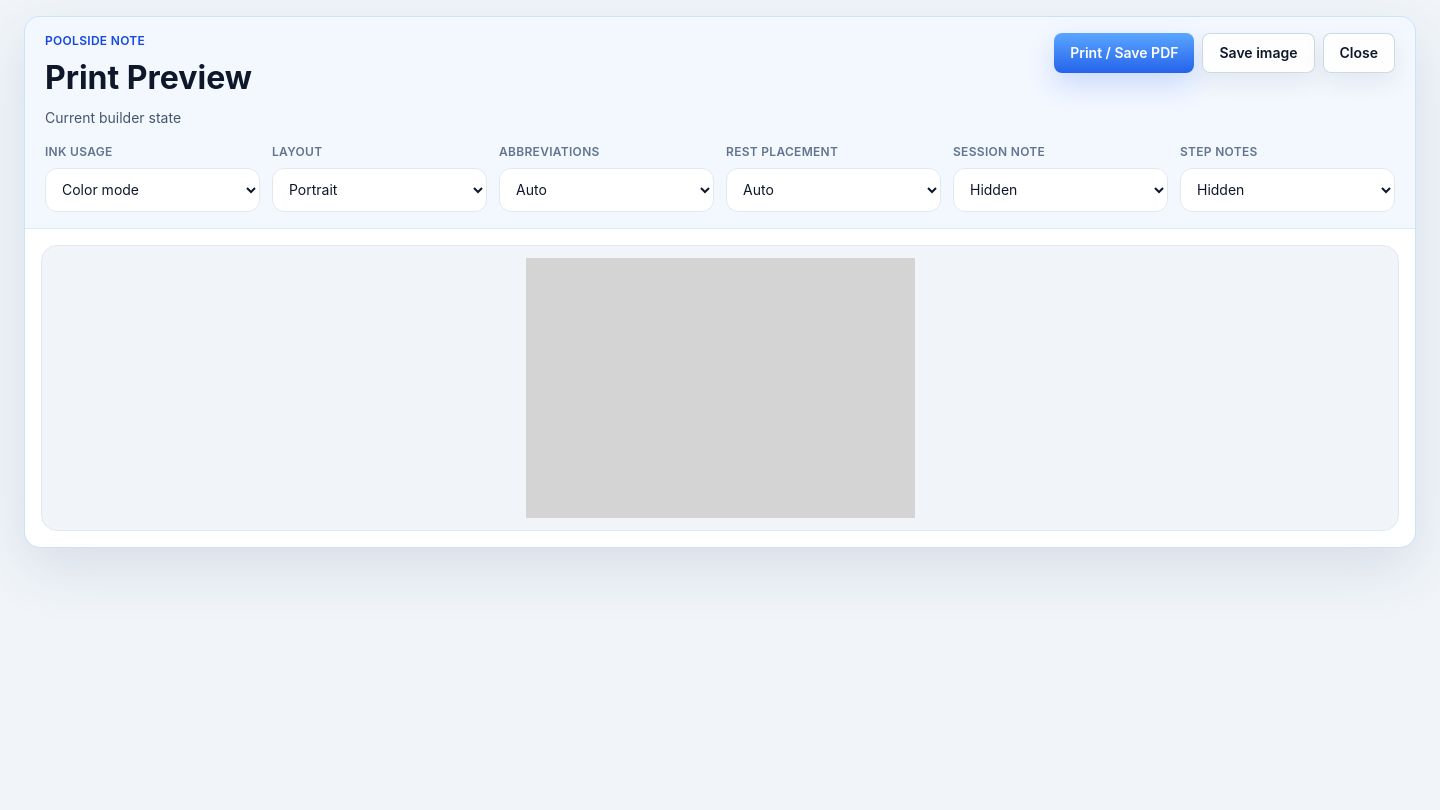
Test case: PoolsidePreviewPageClient › shows recoverable feedback when capture fails
Click the button with test id "poolside-preview-save-image" at (1258, 53), box top-left (1202, 33), bottom-right (1314, 73)
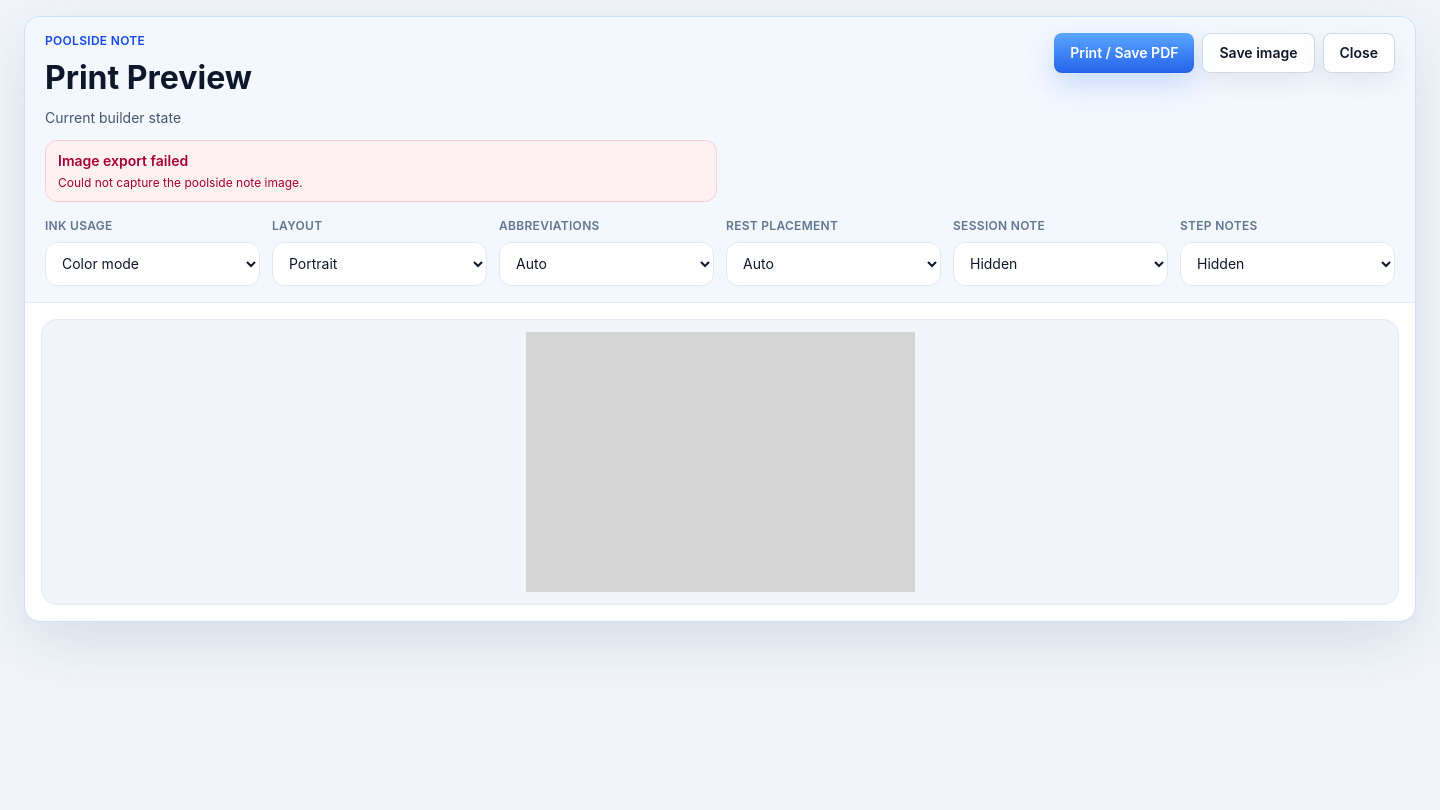
Now the message with test id "poolside-preview-save-image-error" shows "Image export failed", box top-left (58, 152), bottom-right (188, 169)
Now the message with test id "poolside-preview-save-image-error" shows "Could not capture the poolside note image.", box top-left (58, 175), bottom-right (302, 190)
